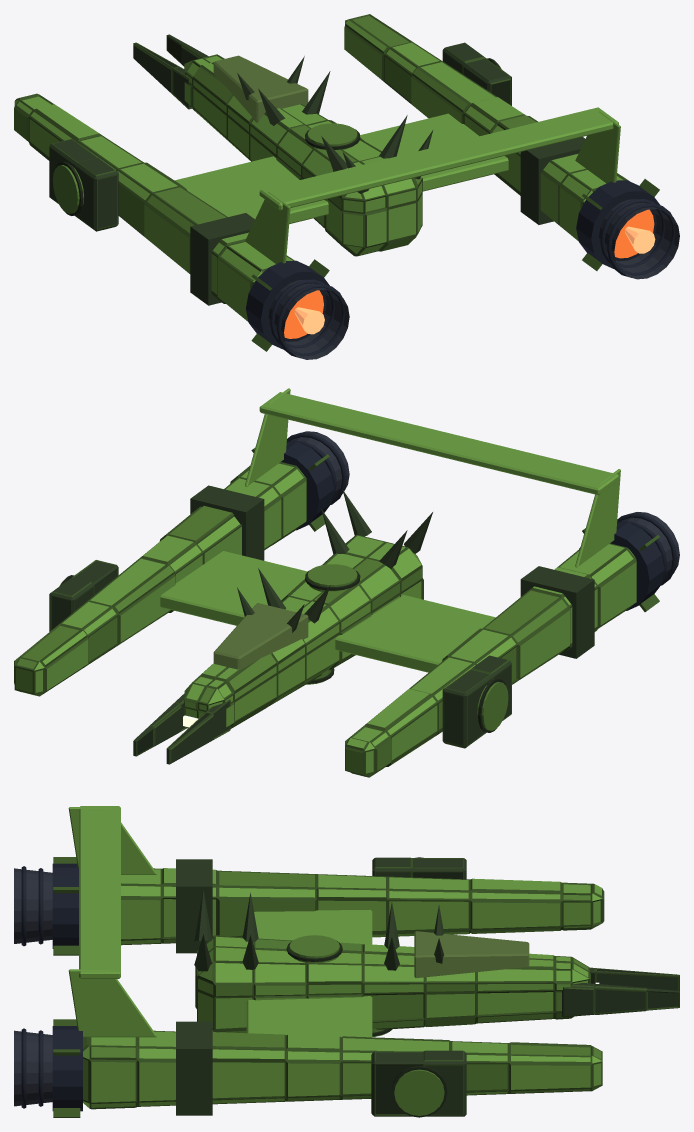
Rendered from mantis.glb.
The picture shows the model from 3 angles, top to bottom: view 1: azimuth 30°, elevation 25°; view 2: azimuth 150°, elevation 25°; view 3: azimuth 270°, elevation 25°; orthographic projection.
Visible parts, largest first — view 1: mantis_mesh; view 2: mantis_mesh; view 3: mantis_mesh.
Part boxes in pixels (bbox=[...]): mantis_mesh: bbox=[14, 14, 679, 359]; mantis_mesh: bbox=[14, 388, 679, 777]; mantis_mesh: bbox=[14, 806, 679, 1117].
Size of the model in its own units: 11.47 by 3.51 by 15.26.
